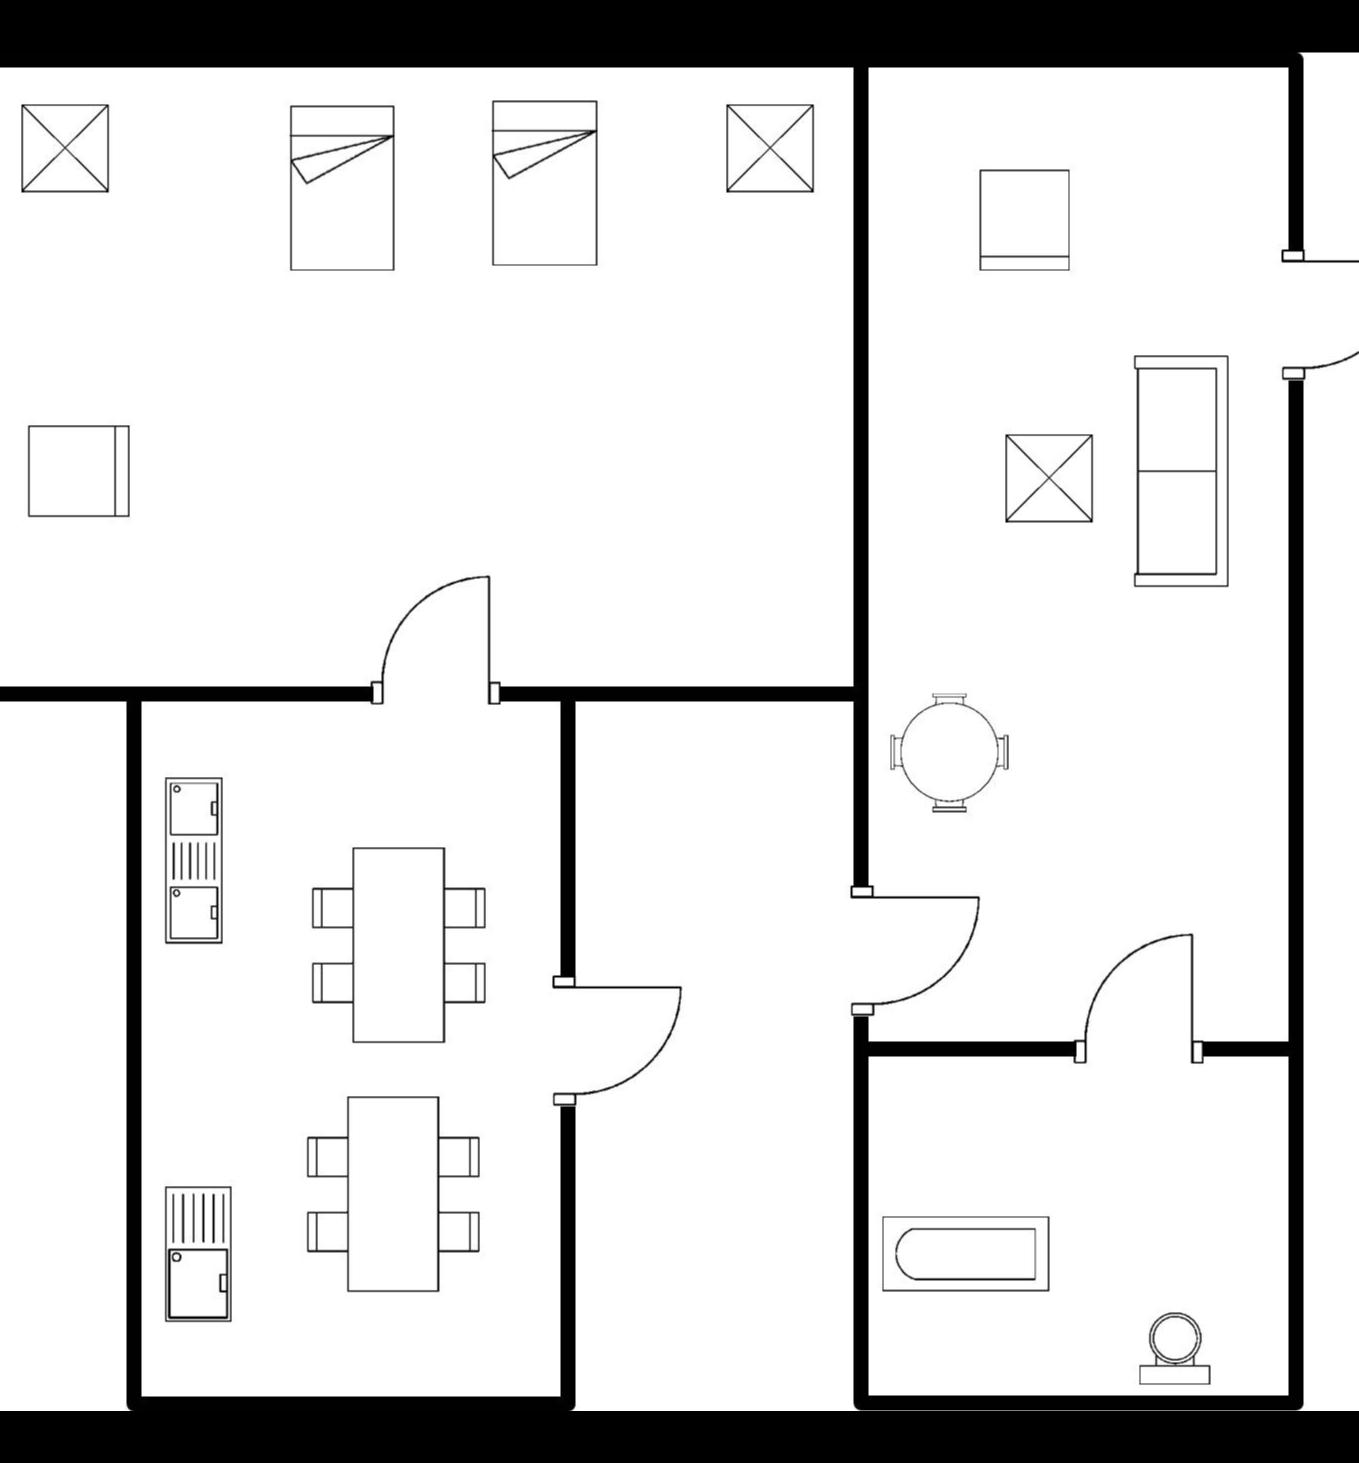sink: (152, 769, 234, 953)
